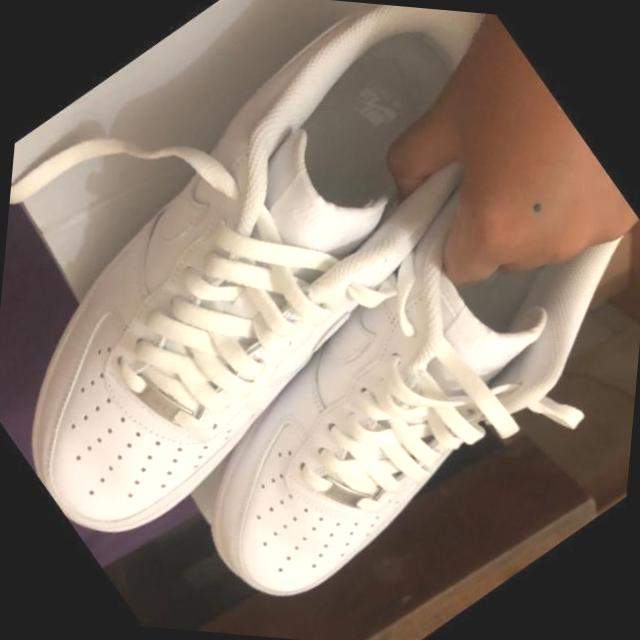nike_original_airforce: (0, 0, 637, 603), (107, 87, 640, 640)
